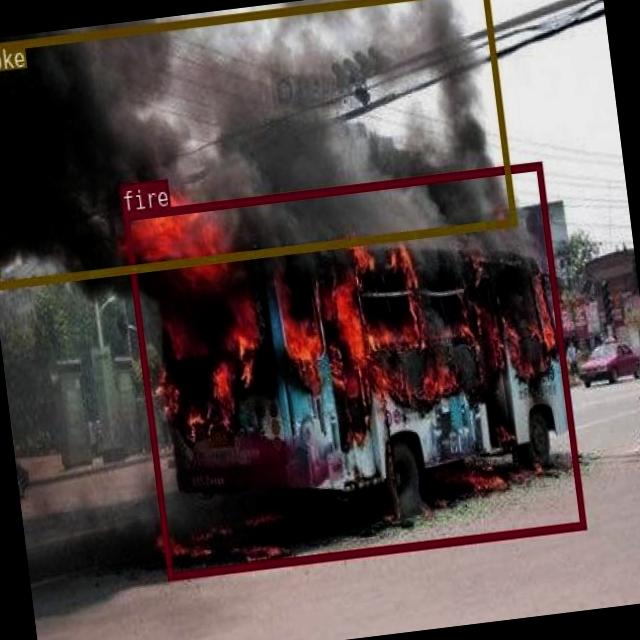fire: (122, 160, 585, 578)
smoke: (0, 0, 515, 289)
